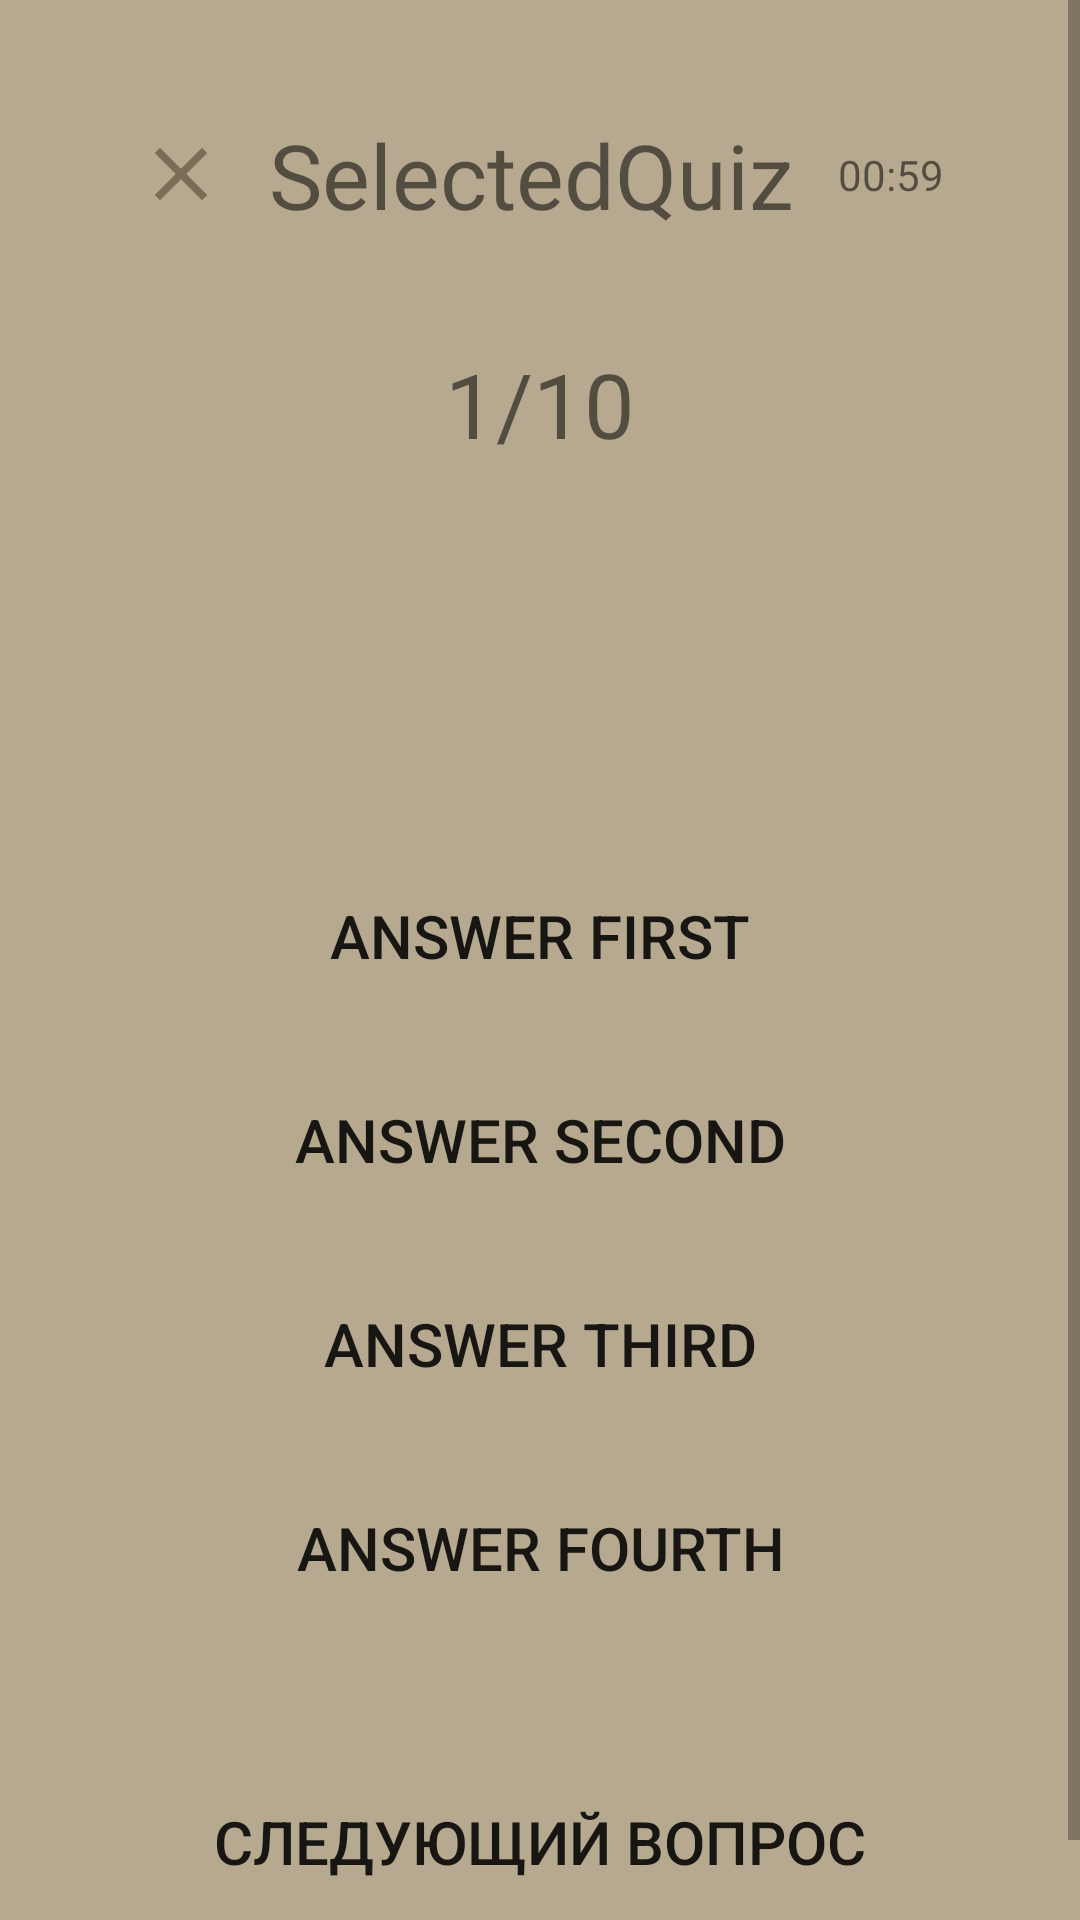

Screen size 1080px×1920px. Icon name, then its box in pixels as (x1, y1, x2, y2):
close: (155, 148, 207, 200)
